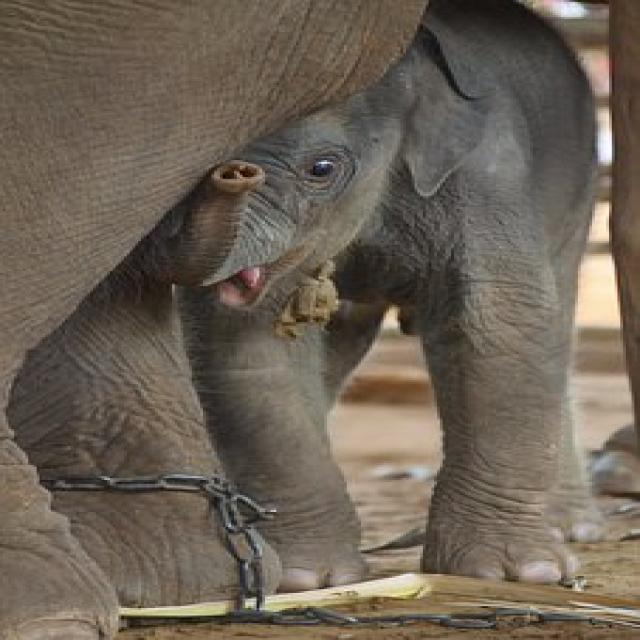Elephant: (21, 6, 630, 617)
